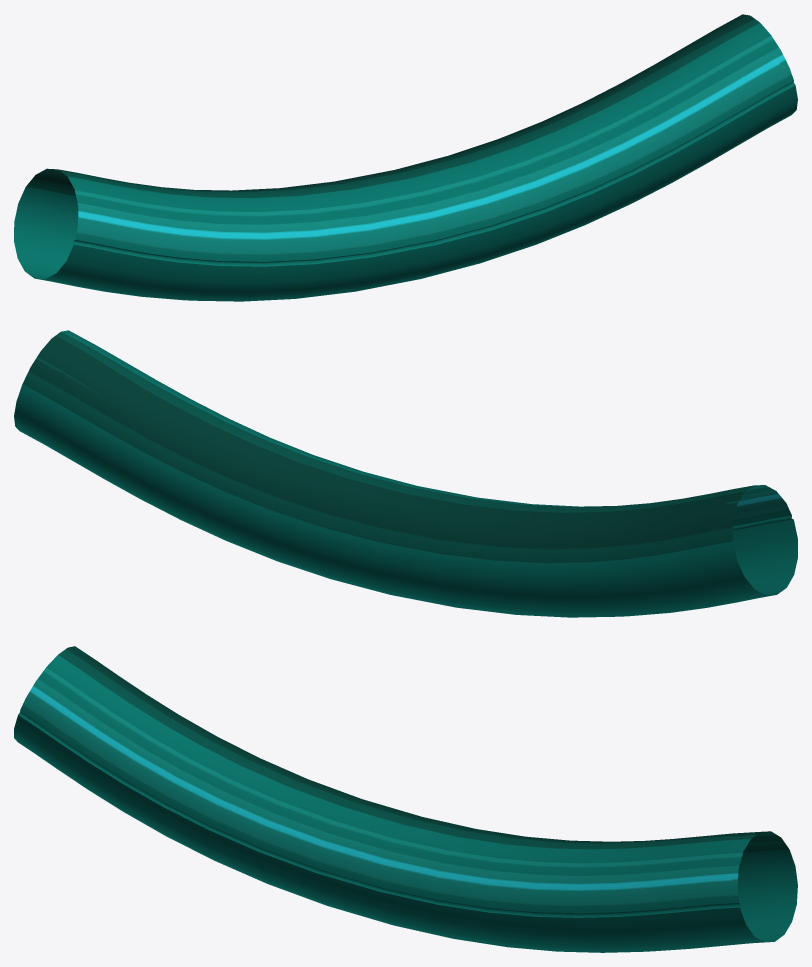
Rendered from SM_Wire_Giant_Blue.fbx.
The picture shows the model from 3 angles, top to bottom: view 1: azimuth 30°, elevation 25°; view 2: azimuth 150°, elevation 25°; view 3: azimuth 330°, elevation 25°; orthographic projection.
Visible parts, largest first — view 1: Sm_Wire_Giant_Blue; view 2: Sm_Wire_Giant_Blue; view 3: Sm_Wire_Giant_Blue.
Part boxes in pixels (box(x1,y1,x2,y2)): Sm_Wire_Giant_Blue: box(14, 14, 797, 301); Sm_Wire_Giant_Blue: box(14, 330, 797, 617); Sm_Wire_Giant_Blue: box(14, 646, 797, 952).
Bounding box in the file's own units: 11.13 × 6.12 × 47.01.
Materials: 1 (1 with a texture image).
